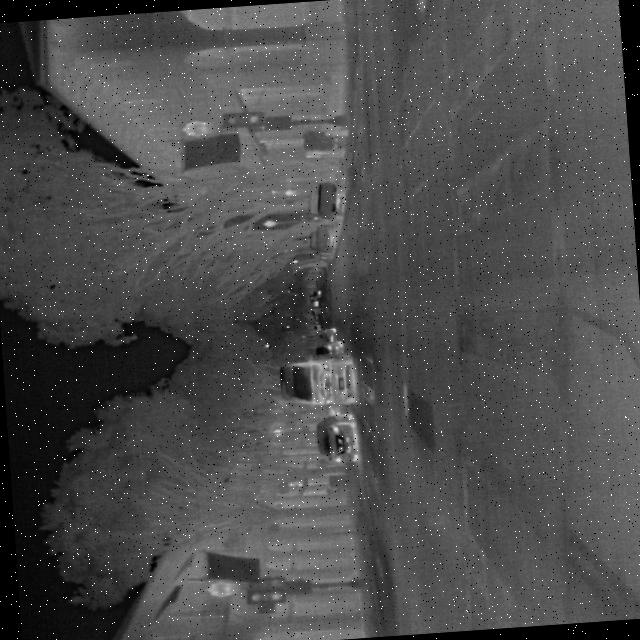Vehicle: (276, 352, 358, 410), (313, 412, 360, 464)
